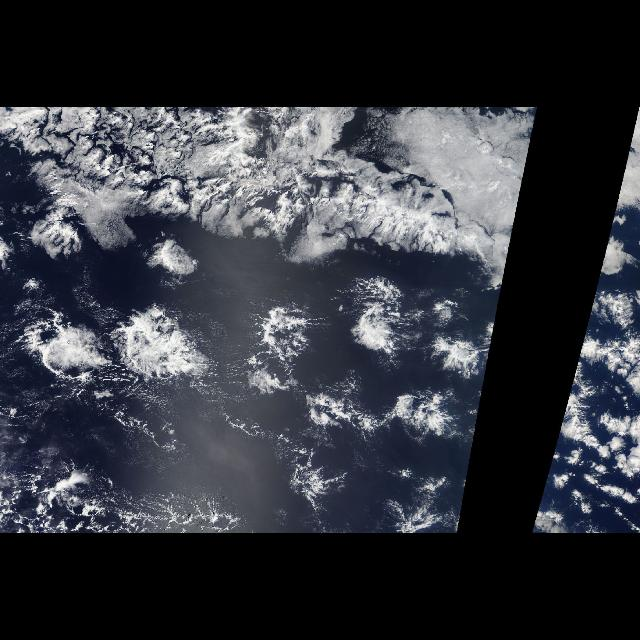Flower: (14, 275, 502, 533), (556, 286, 630, 440)
